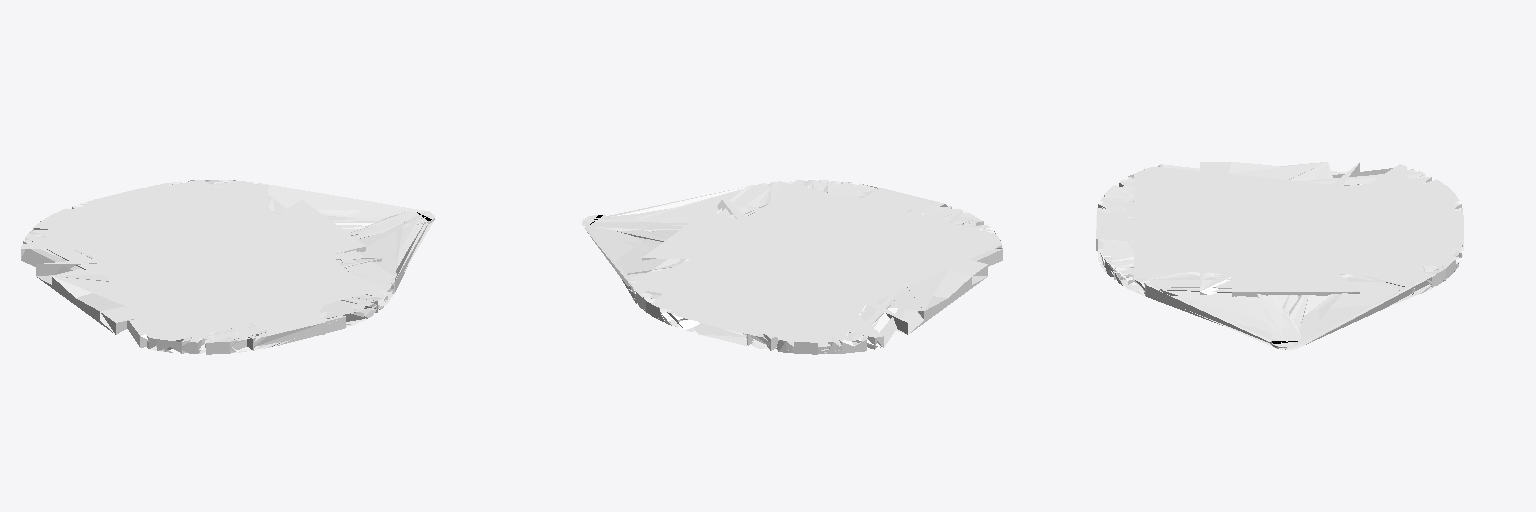
The model's file is Outlet.obj.
3 renders of one model, left to right at view 1: azimuth 30°, elevation 25°; view 2: azimuth 150°, elevation 25°; view 3: azimuth 270°, elevation 25°, orthographic.
Parts seen in each view (by area): view 1: Box002, Box001; view 2: Box002, Box001; view 3: Box002, Box001.
Part boxes in pixels (x1,y1,x2,y2): Box002: (21,180,433,354); Box001: (248,210,430,275); Box002: (582,180,1002,354); Box001: (582,209,777,260); Box002: (1096,162,1463,349); Box001: (1200,254,1342,349).
Size of the model in its own units: 8739 by 291 by 7711.